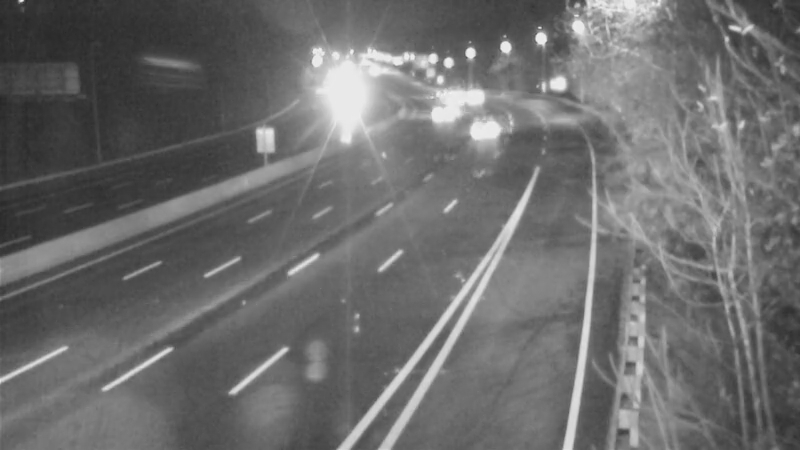vehicle: (415, 69, 465, 119), (450, 70, 500, 120), (429, 74, 479, 124), (413, 92, 463, 142), (461, 109, 511, 159)
